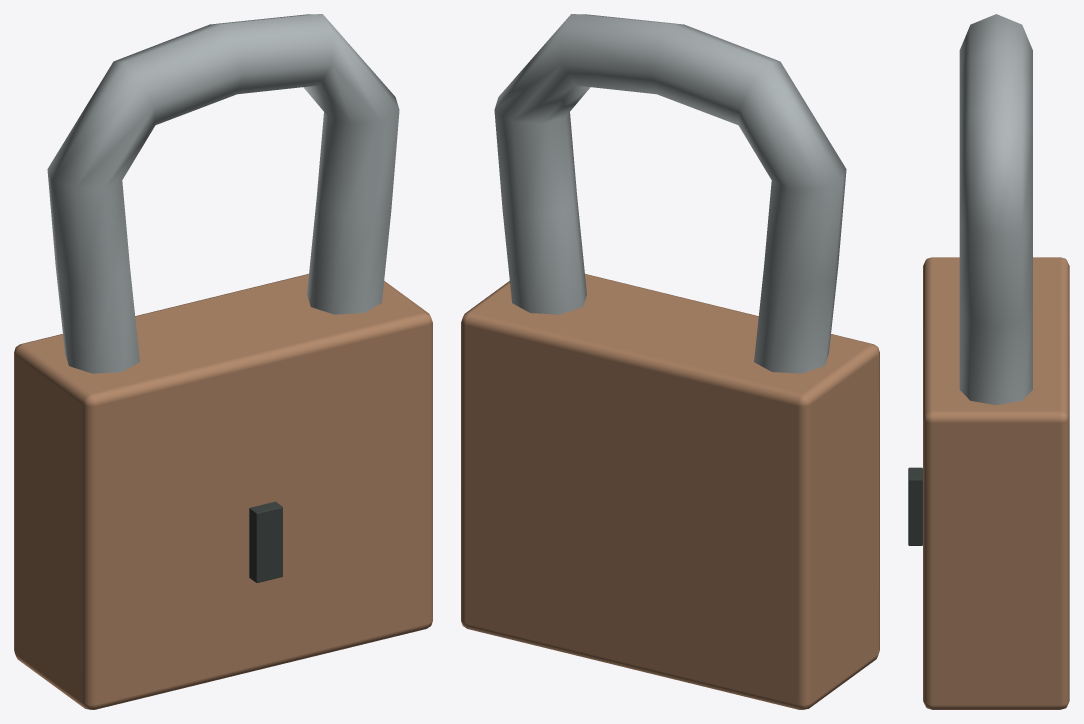
Rendered from scavengers-loot-library-padlock-574f51cb__2564.glb.
3 views of the same model, side by side, from view 1: azimuth 30°, elevation 25°; view 2: azimuth 150°, elevation 25°; view 3: azimuth 270°, elevation 25° (orthographic). The views are drawn at different scales.
Visible parts, largest first — view 1: padlock, shackle/metal; view 2: padlock, shackle/metal; view 3: padlock, shackle/metal.
Part boxes in pixels (box(x1,y1,x2,y2)): padlock: box(14, 274, 432, 709); shackle/metal: box(47, 14, 399, 373); padlock: box(461, 274, 879, 709); shackle/metal: box(494, 14, 846, 373); padlock: box(908, 257, 1069, 709); shackle/metal: box(959, 14, 1032, 405).
Bounding box in the file's own units: 0.052 × 0.0882 × 0.022.
